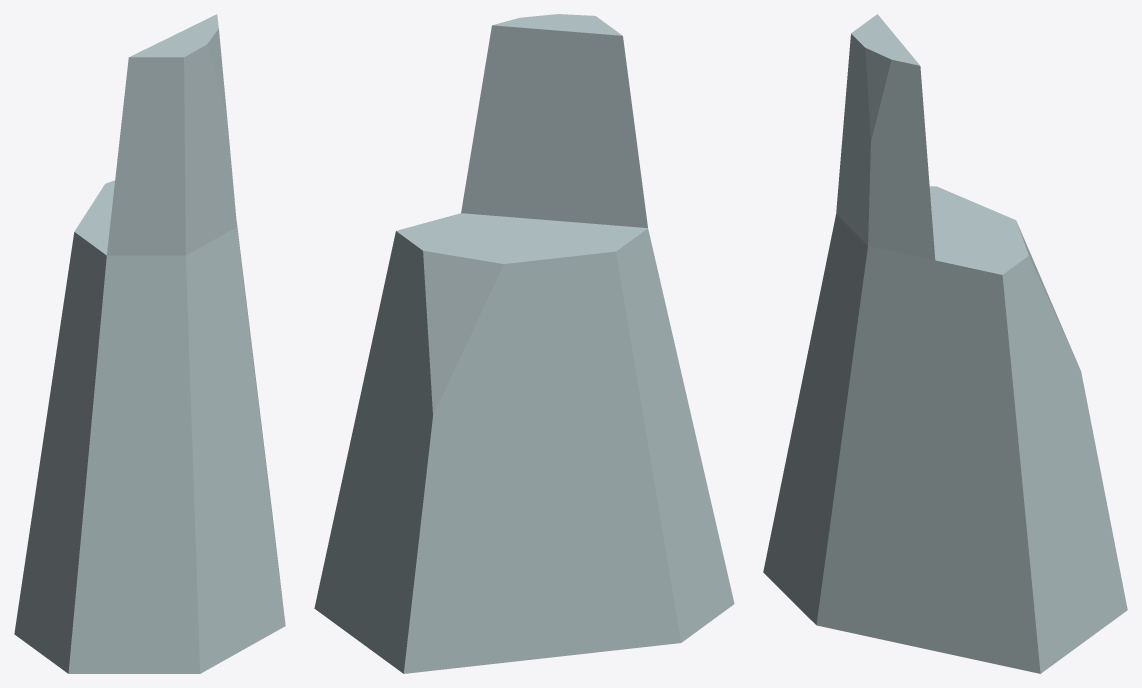
Rendered from stone_tallD.glb.
3 renders of one model, left to right at view 1: azimuth 30°, elevation 25°; view 2: azimuth 150°, elevation 25°; view 3: azimuth 270°, elevation 25°, orthographic. The views are drawn at different scales.
Parts seen in each view (by area): view 1: stone_tallD; view 2: stone_tallD; view 3: stone_tallD.
Boxes of the visible parts, <box> form: stone_tallD: <box>14,14,285,673</box>; stone_tallD: <box>314,14,734,673</box>; stone_tallD: <box>763,14,1127,673</box>.
Size of the model in its own units: 0.4428 by 0.7721 by 0.4615.
